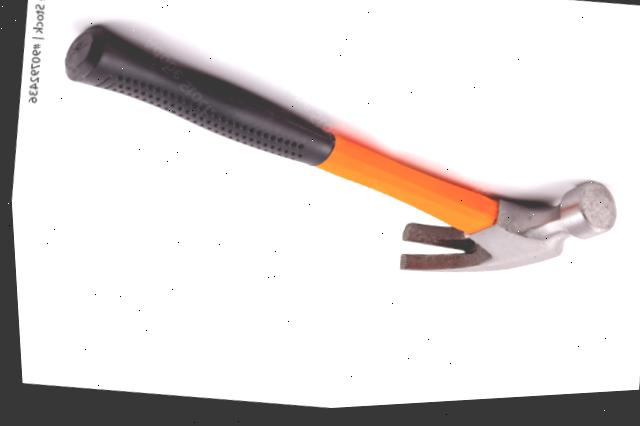hammer: (30, 0, 640, 327)
